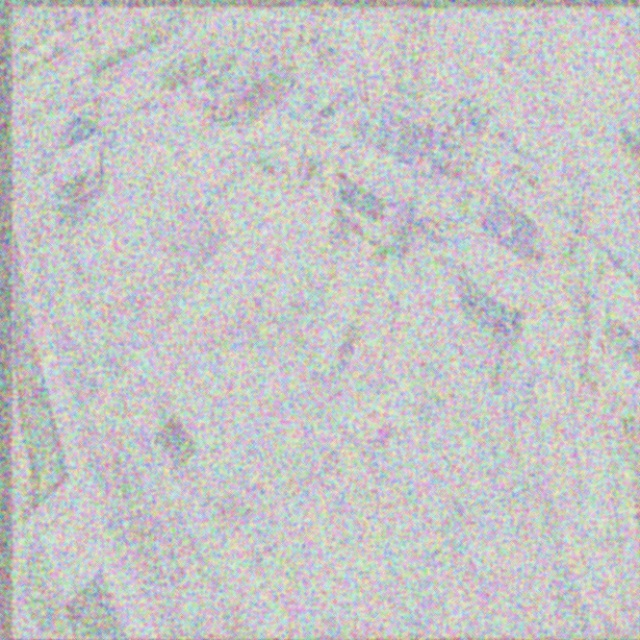Car: (335, 82, 463, 263), (463, 145, 547, 343), (252, 75, 368, 180)
